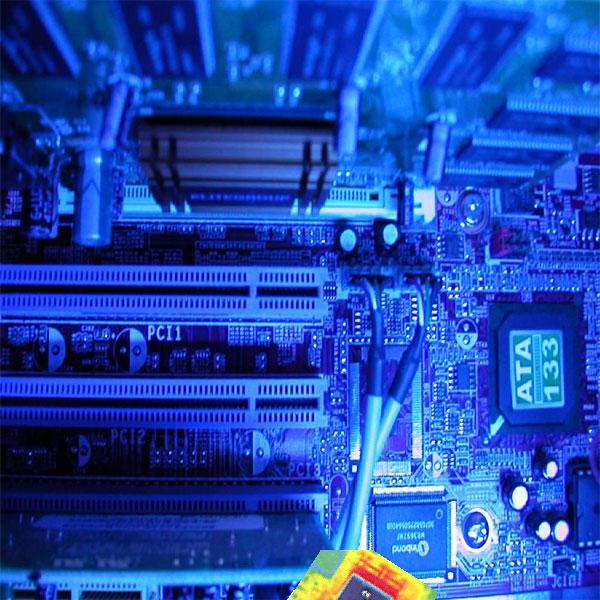componente_T: (285, 541, 444, 600)
